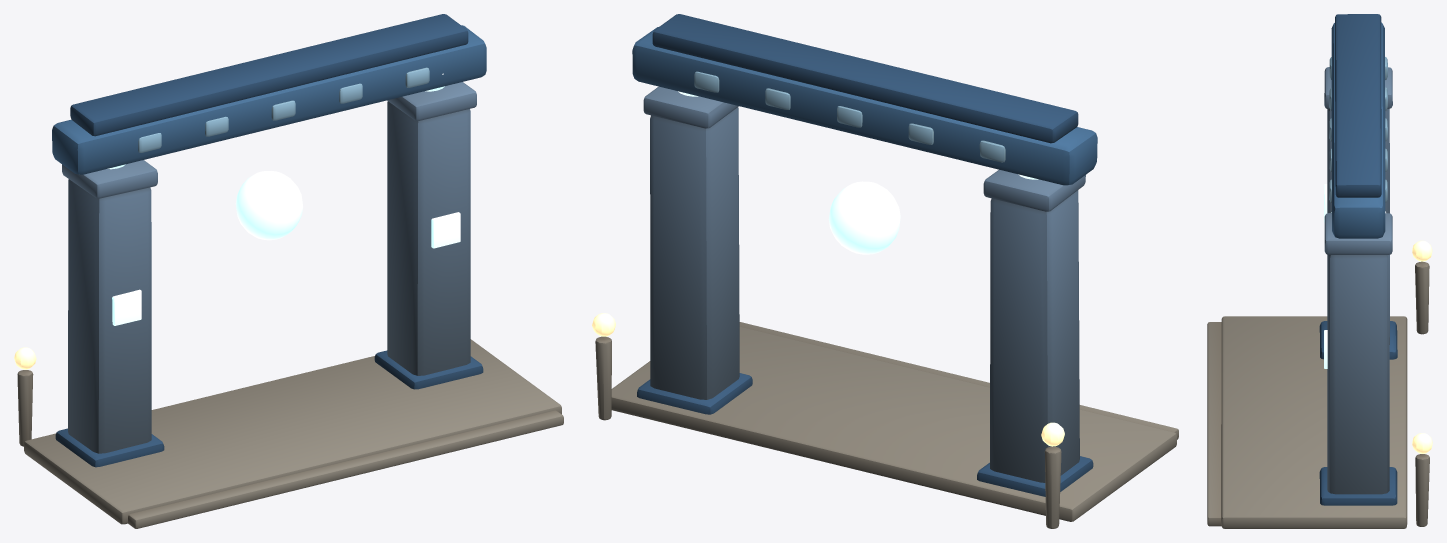
3 views of the same model, side by side, from view 1: azimuth 30°, elevation 25°; view 2: azimuth 150°, elevation 25°; view 3: azimuth 270°, elevation 25° (orthographic). The views are drawn at different scales.
Visible parts, largest first — view 1: gate_5d601d23; view 2: gate_5d601d23; view 3: gate_5d601d23.
Part boxes in pixels (x1=…): gate_5d601d23: x1=14, y1=14, x2=563, y2=528; gate_5d601d23: x1=592, y1=14, x2=1178, y2=528; gate_5d601d23: x1=1207, y1=14, x2=1432, y2=528.
Size of the model in its own units: 5.4 by 4.13 by 2.55.
